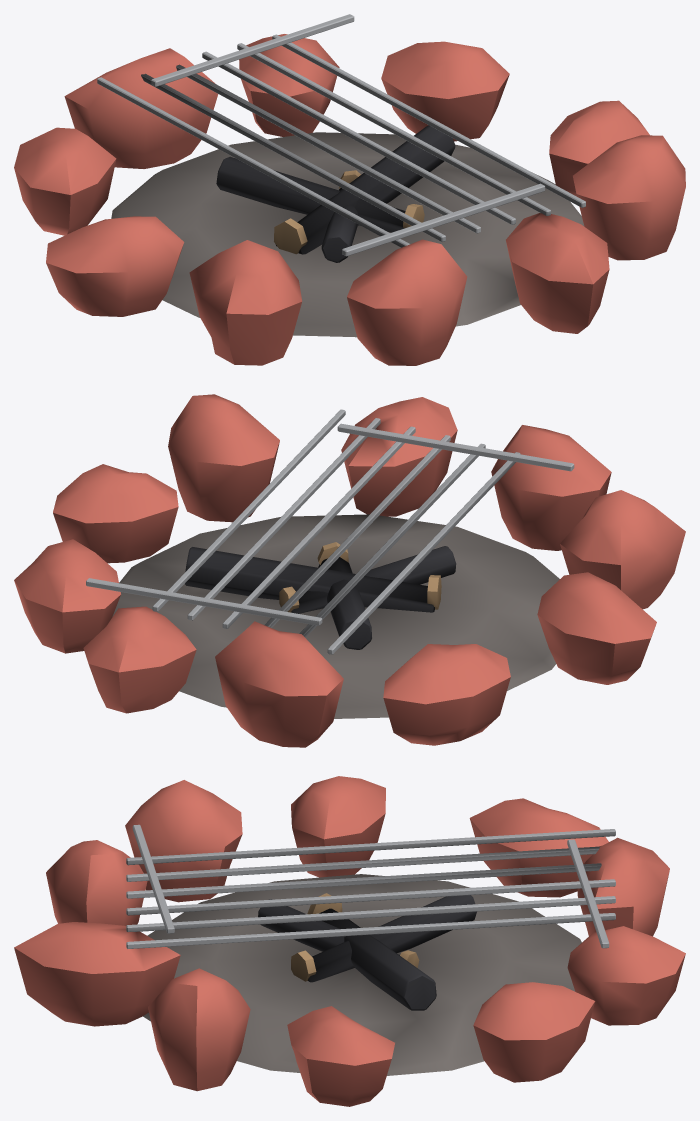
File: firering.glb
3 renders of one model, top to bottom at view 1: azimuth 30°, elevation 25°; view 2: azimuth 150°, elevation 25°; view 3: azimuth 270°, elevation 25°, orthographic.
Visible parts, largest first — view 1: PART; view 2: PART; view 3: PART.
Part boxes in pixels (<box>): PART: <box>14,14,685,365</box>; PART: <box>14,394,685,747</box>; PART: <box>14,776,685,1106</box>.
Size of the model in its own units: 1.4 by 0.2488 by 1.4.
